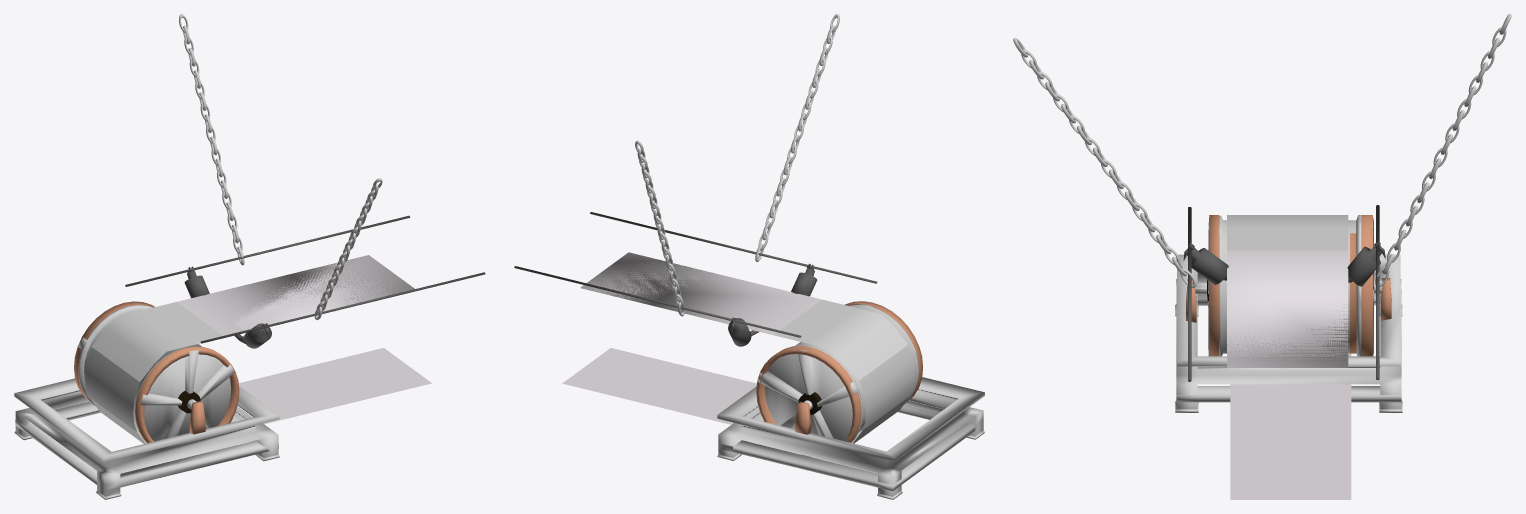
The model's file is участок ленты.fbx.
3 views of the same model, side by side, from view 1: azimuth 30°, elevation 25°; view 2: azimuth 150°, elevation 25°; view 3: azimuth 270°, elevation 25° (orthographic). The views are drawn at different scales.
Visible parts, largest first — view 1: Cylinder_010, Torus_002; view 2: Cylinder_010, Torus_002; view 3: Torus_002, Cylinder_010.
Boxes of the visible parts, left/top/right/bottom form: Cylinder_010: left=14, top=301, right=279, bottom=499; Torus_002: left=125, top=14, right=485, bottom=424; Cylinder_010: left=717, top=299, right=984, bottom=499; Torus_002: left=514, top=14, right=877, bottom=424; Torus_002: left=1013, top=14, right=1511, bottom=499; Cylinder_010: left=1175, top=215, right=1402, bottom=412.
Bounding box in the file's own units: 7.54 × 6.29 × 6.75.
